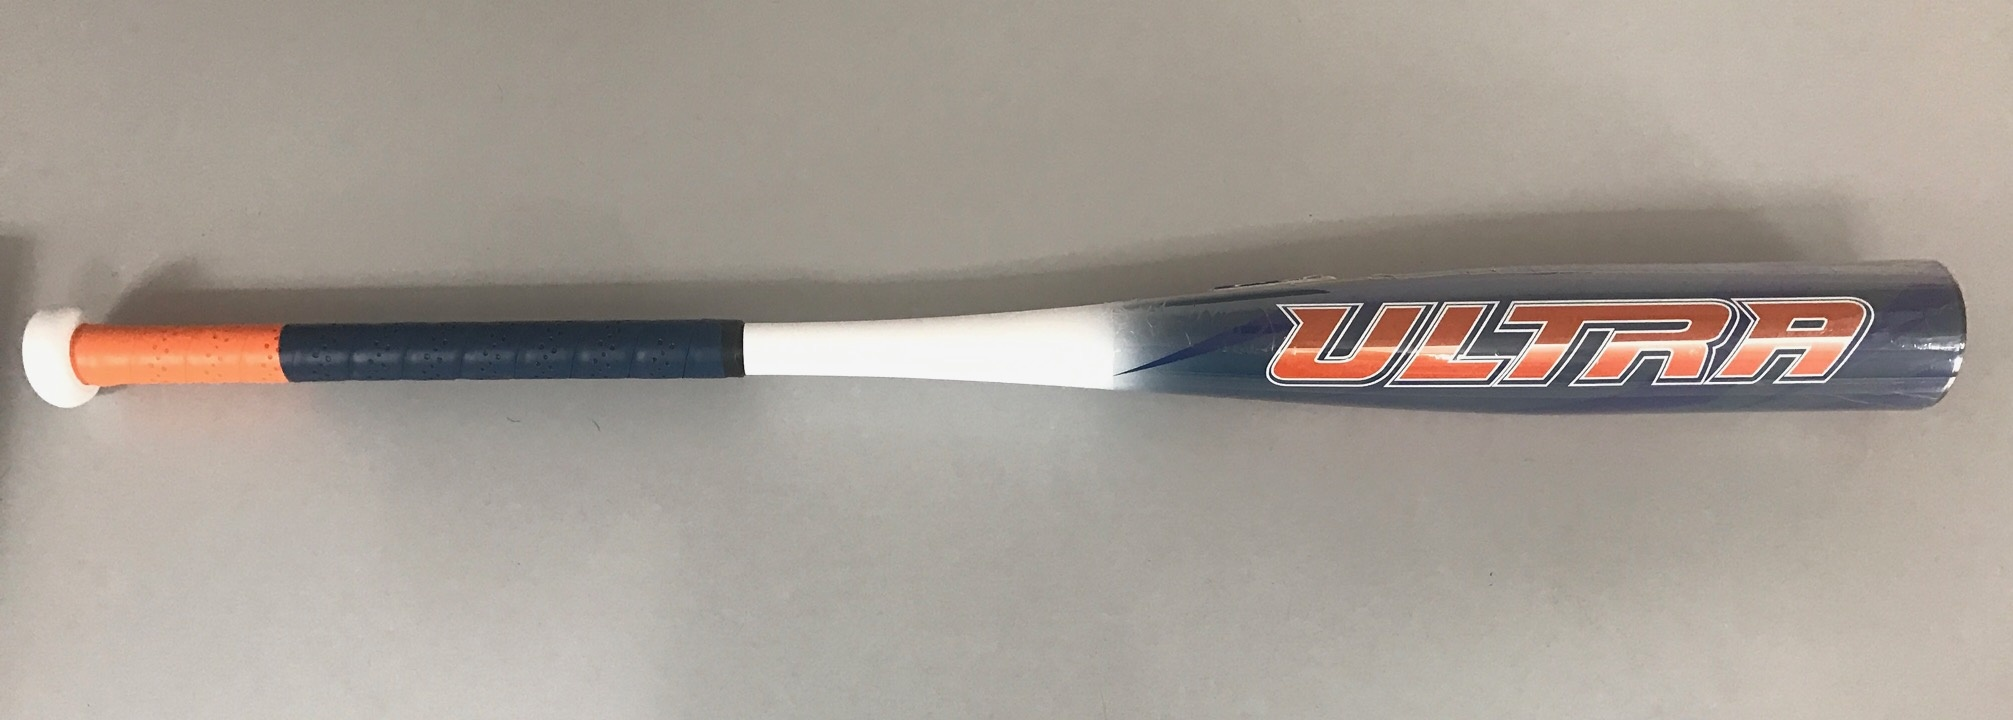bita: (6, 252, 1957, 448)
